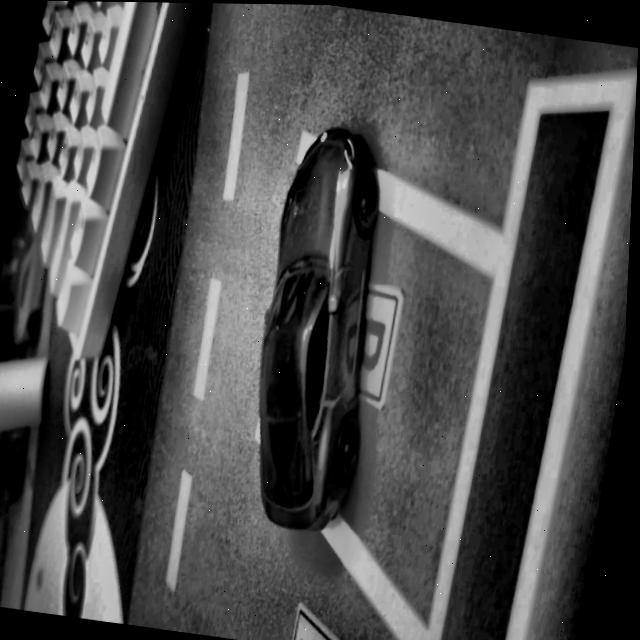car: (233, 120, 414, 537)
